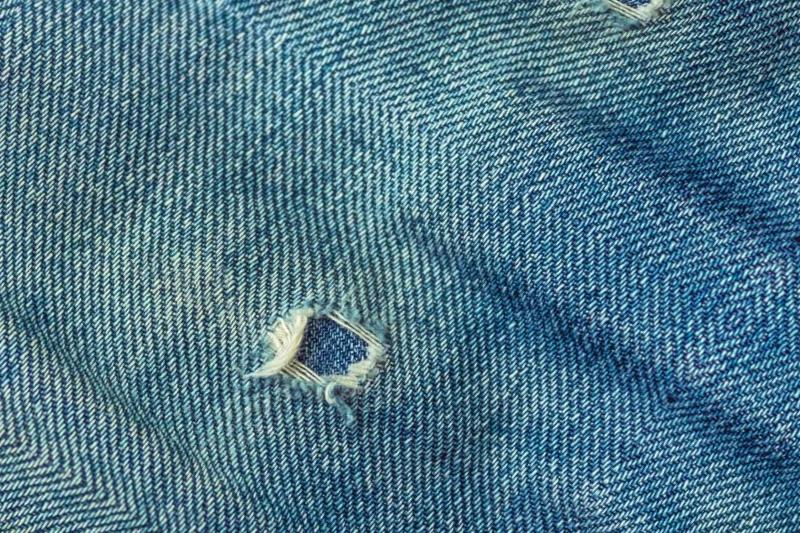hole: (264, 291, 391, 408)
